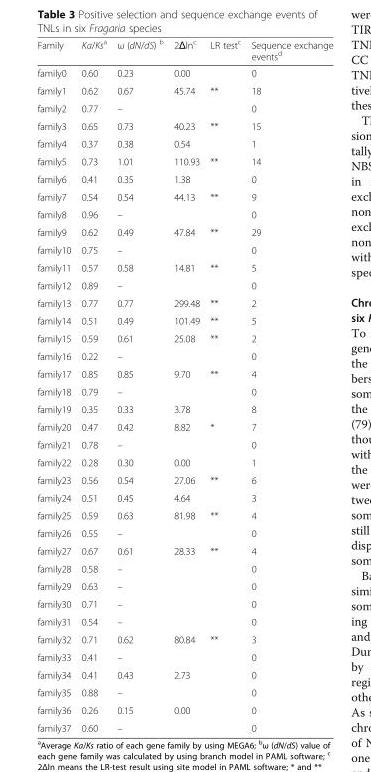table: (36, 37, 332, 733)
table column: (245, 37, 332, 733), (111, 37, 167, 733), (204, 37, 245, 733), (36, 37, 75, 733), (167, 37, 204, 733), (75, 37, 111, 733)
table column header: (36, 37, 332, 64)
table row: (36, 37, 332, 64), (36, 81, 332, 99), (36, 116, 332, 134), (36, 134, 332, 152), (36, 152, 332, 170), (36, 187, 332, 205), (36, 205, 332, 223), (36, 240, 332, 258), (36, 258, 332, 276), (36, 293, 332, 311), (36, 311, 332, 329), (36, 329, 332, 347), (36, 364, 332, 382), (36, 382, 332, 400), (36, 417, 332, 435), (36, 435, 332, 453), (36, 470, 332, 488), (36, 488, 332, 506), (36, 506, 332, 524), (36, 541, 332, 559), (36, 559, 332, 577), (36, 594, 332, 612), (36, 612, 332, 630), (36, 647, 332, 665), (36, 665, 332, 683), (36, 683, 332, 701), (36, 64, 332, 81), (36, 99, 332, 116), (36, 170, 332, 187), (36, 223, 332, 240), (36, 276, 332, 293), (36, 347, 332, 364), (36, 400, 332, 417), (36, 453, 332, 470), (36, 524, 332, 541), (36, 577, 332, 594), (36, 630, 332, 647), (36, 701, 332, 718), (36, 718, 332, 733)
